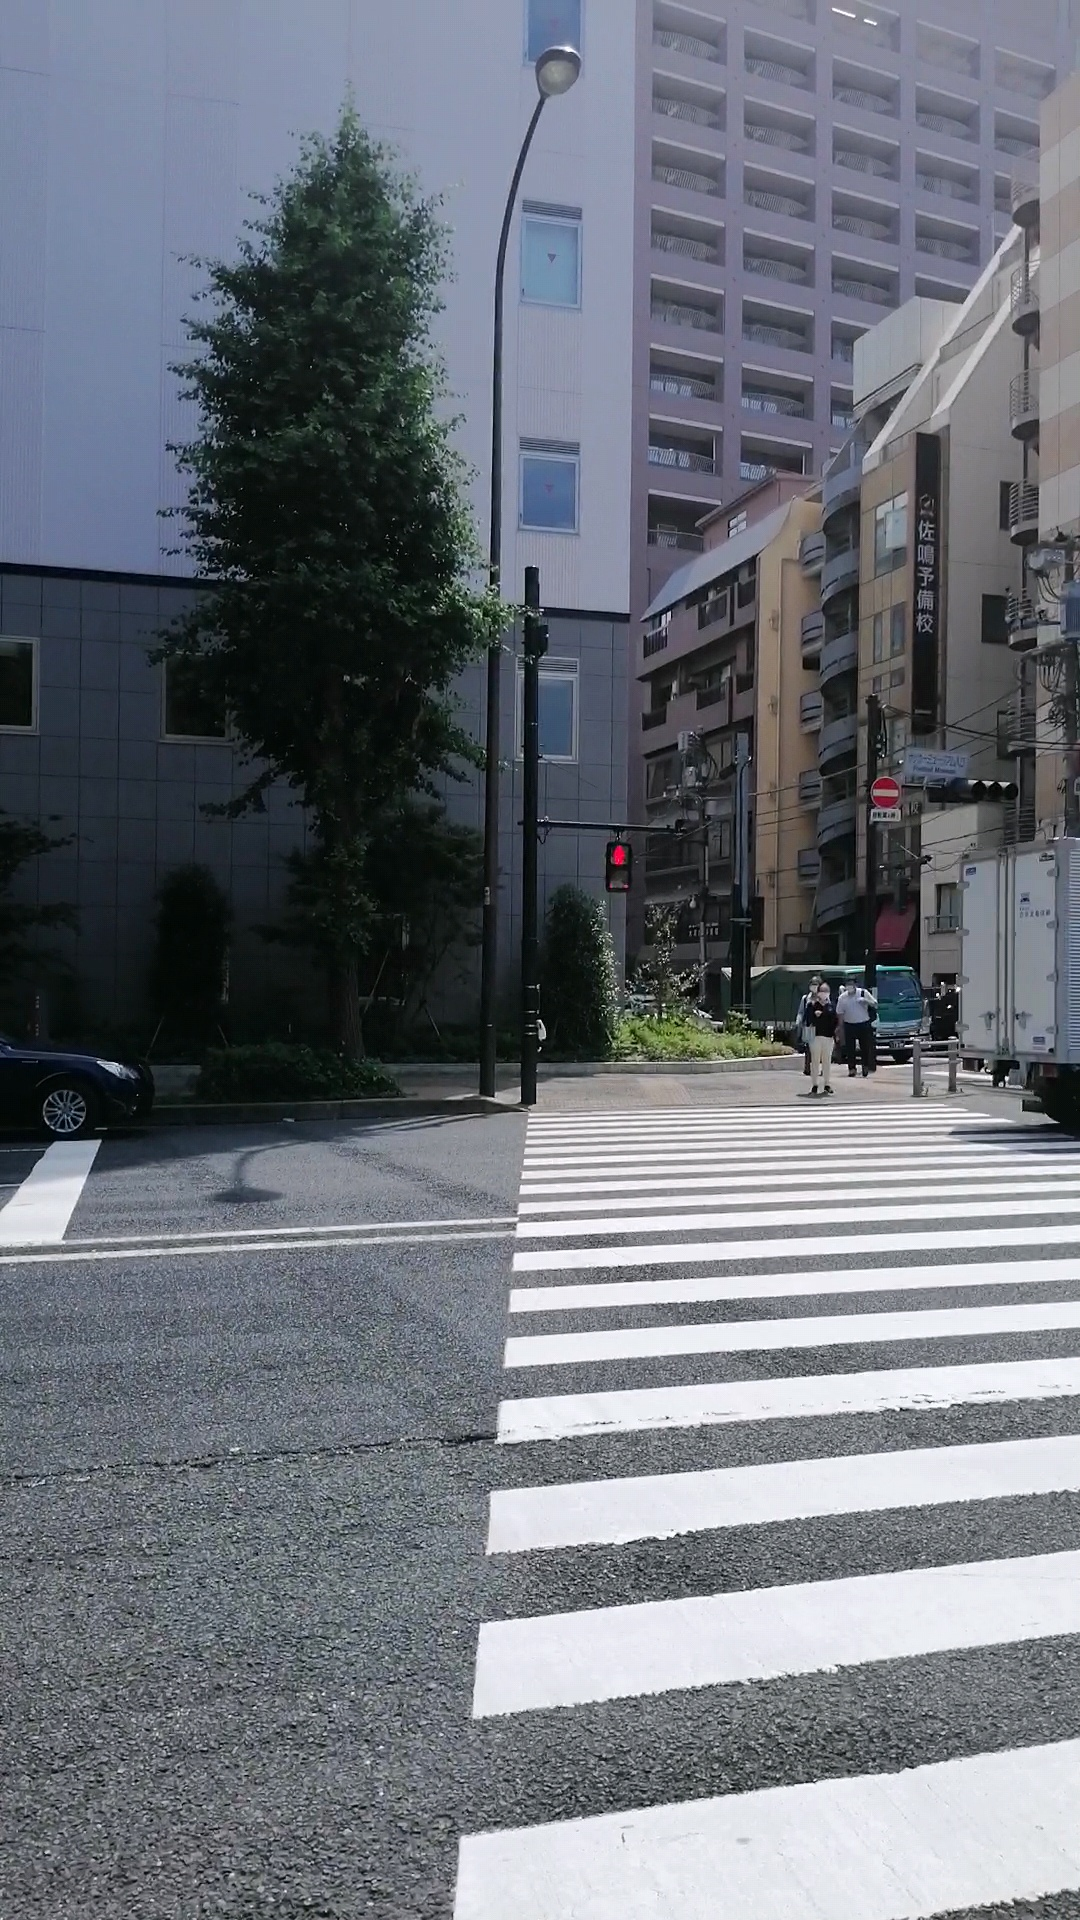red: (603, 840, 633, 891)
